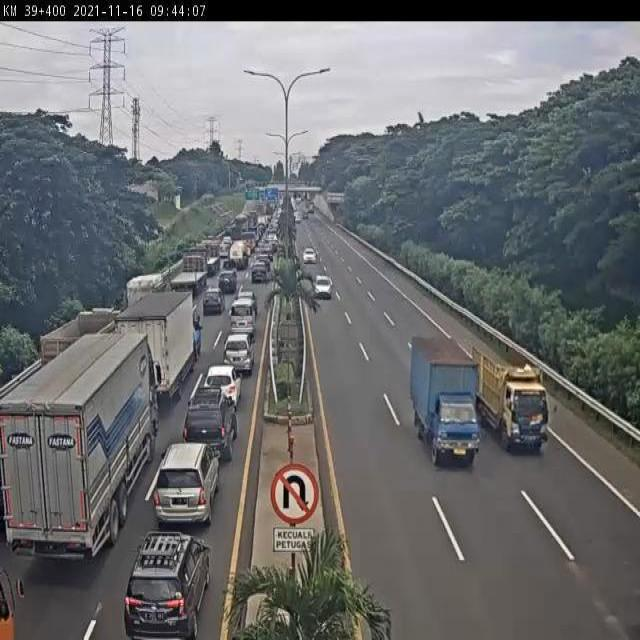car: (120, 530, 210, 640), (149, 440, 223, 532), (182, 387, 238, 461), (203, 357, 242, 408), (223, 329, 253, 376), (229, 299, 260, 343), (218, 263, 240, 297), (310, 272, 336, 299), (204, 287, 224, 319), (239, 287, 259, 309), (300, 246, 319, 266)
truck: (0, 331, 164, 565), (409, 335, 482, 476), (117, 291, 205, 407), (471, 346, 556, 462), (38, 304, 126, 405), (170, 249, 209, 295)
